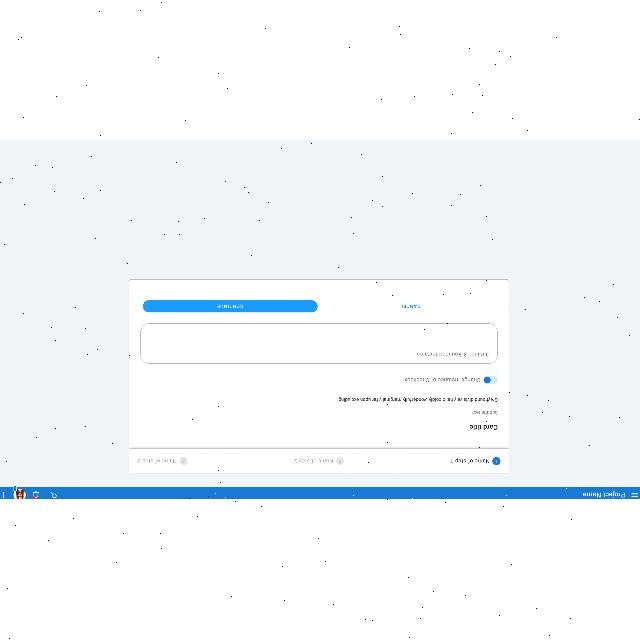QLabel: (334, 397, 498, 403), (403, 378, 481, 384), (582, 492, 628, 500), (294, 458, 334, 466), (469, 424, 499, 432), (138, 459, 178, 465), (452, 459, 491, 465), (472, 410, 498, 416), (218, 305, 245, 309), (399, 305, 421, 309)
VAppBar: (0, 488, 640, 500)
VBadge: (12, 488, 26, 500), (32, 492, 40, 500)
VBtn: (142, 300, 318, 314)
VDivider: (210, 461, 272, 463), (366, 461, 428, 463)
VIcon: (50, 492, 58, 500), (631, 493, 639, 499), (3, 493, 5, 499)
VStepper: (126, 278, 512, 477)
VSwitch: (484, 376, 498, 384)
VTextarea: (140, 324, 498, 364)
